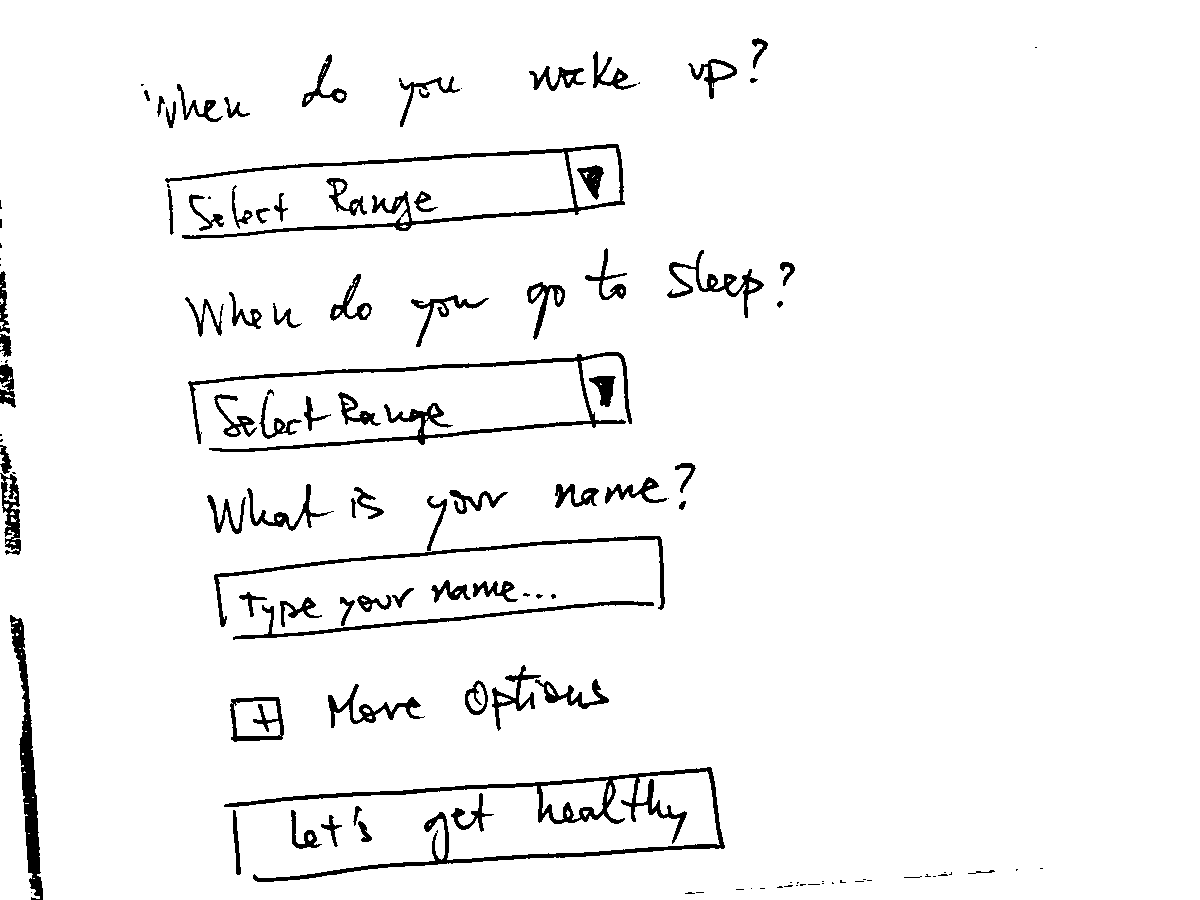Button: (227, 762, 738, 885)
Select: (164, 139, 630, 242), (186, 348, 636, 454)
